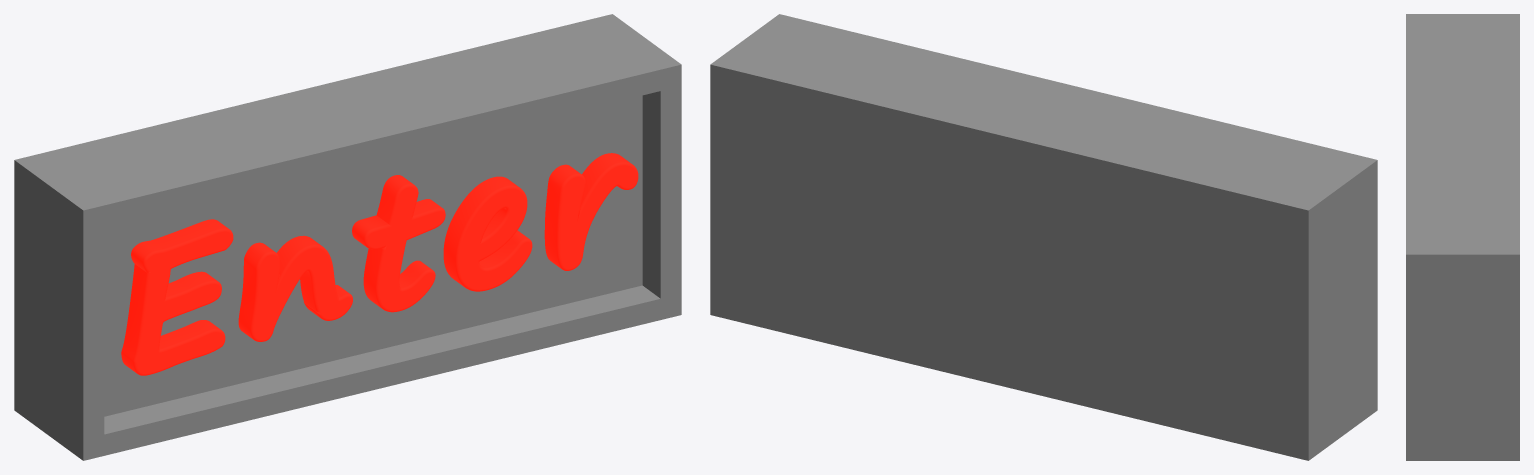
Rendered from EnterSign.fbx.
3 views of the same model, side by side, from view 1: azimuth 30°, elevation 25°; view 2: azimuth 150°, elevation 25°; view 3: azimuth 270°, elevation 25° (orthographic). The views are drawn at different scales.
Visible parts, largest first — view 1: Cube, Text; view 2: Cube; view 3: Cube.
Part boxes in pixels (x1,y1,x2,y2): Cube: [14, 14, 681, 460]; Text: [121, 153, 638, 375]; Cube: [710, 14, 1377, 460]; Cube: [1406, 14, 1519, 460].
Bounding box in the file's own units: 1000 × 400 × 200.
